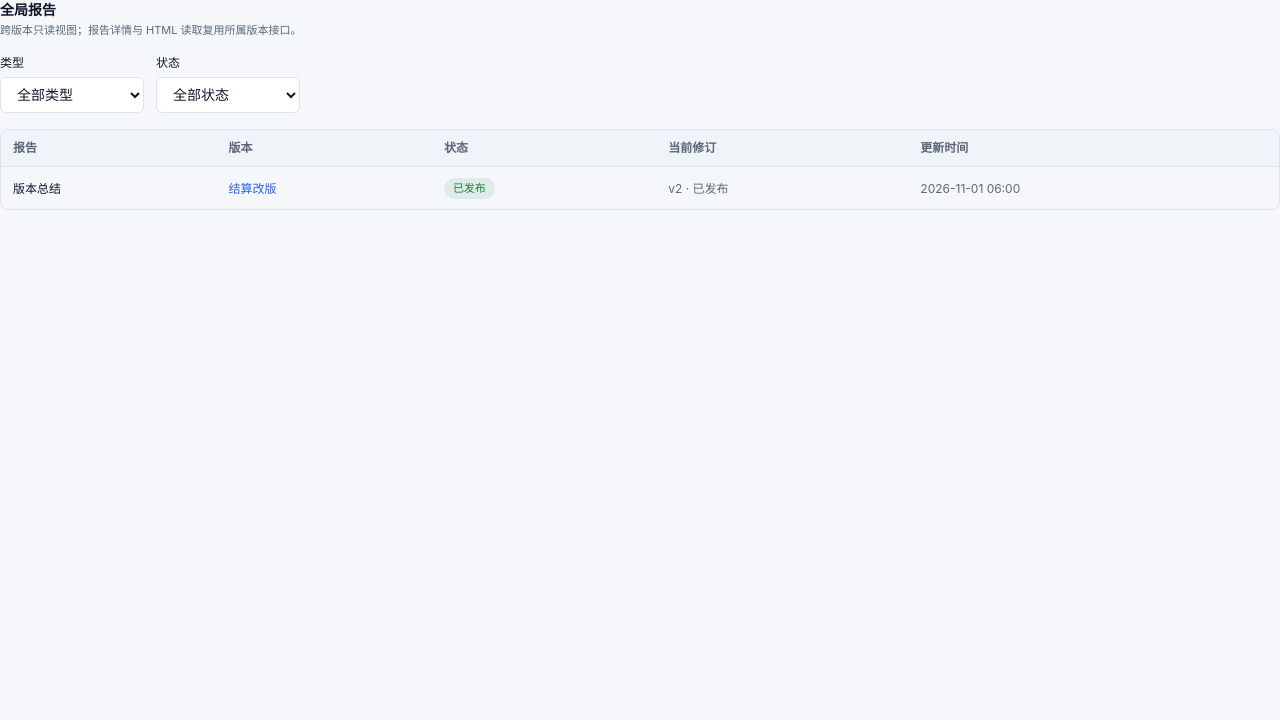
Test: GlobalReportsPage › surfaces an HTML open failure without exporting the report
Click the button with test id "global-report-8101" at (37, 189), box [13, 181, 61, 197]
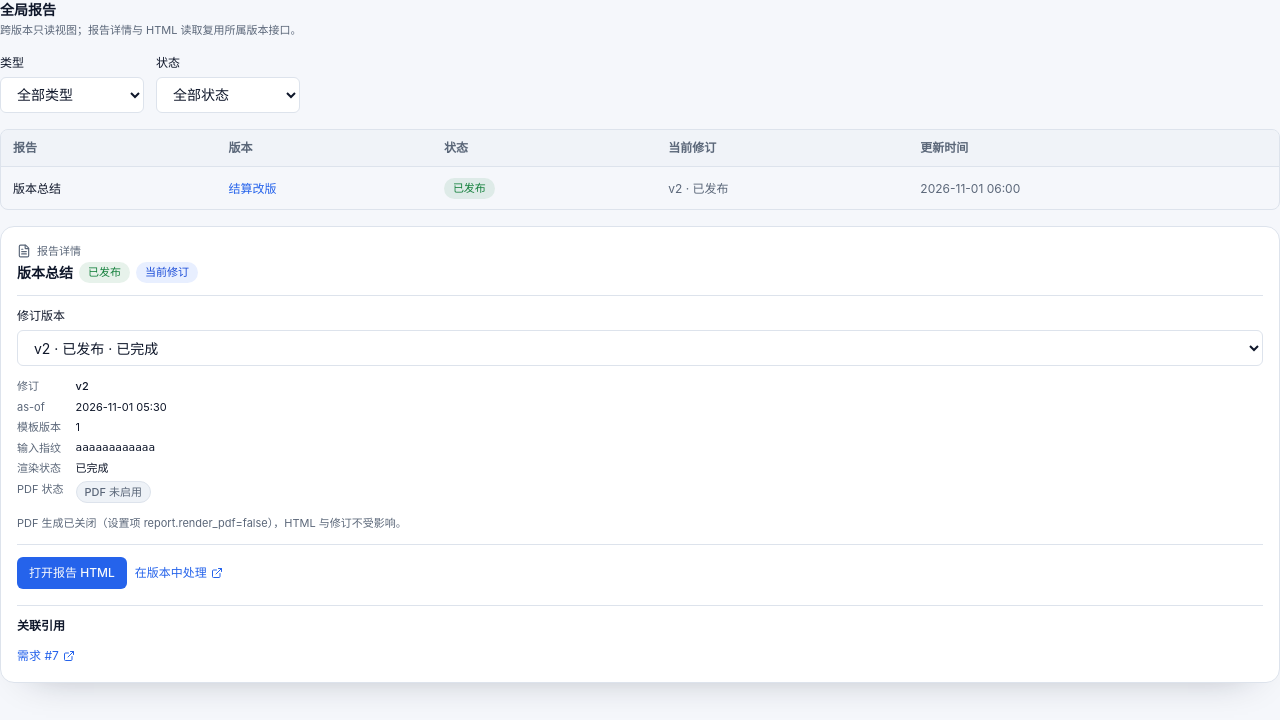
Result: the element with test id "report-detail" is shown
Click the button "打开报告 HTML" at (72, 573), box [17, 557, 127, 589]
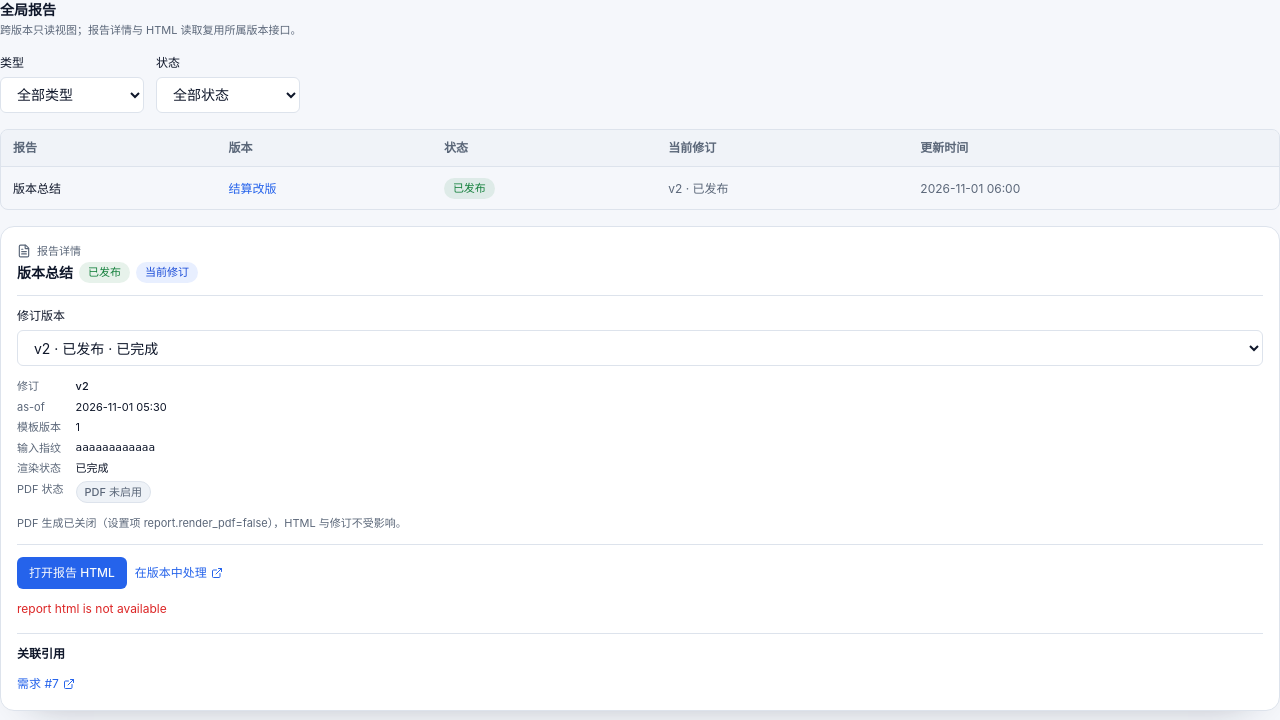
Result: the text "report html is not available" is shown at [17, 601, 167, 616]
